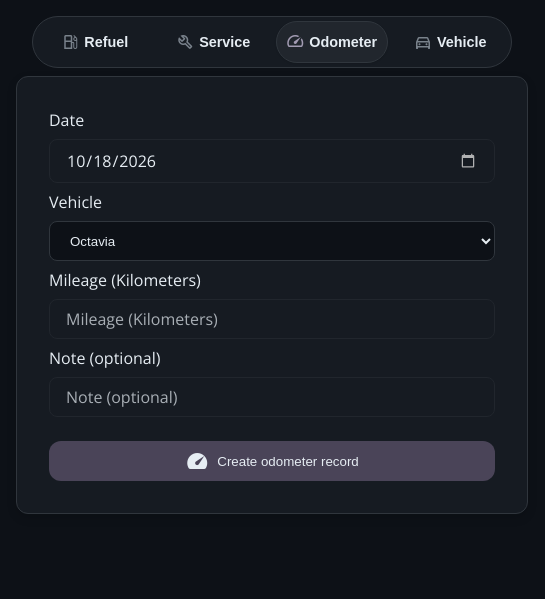
Test: AddView › start odometer record › hides the option when the selected vehicle already has a start record
Step 1. Select "Fabia" in the dropdown labelled "Vehicle" → (272, 241), box [49,221,495,261]
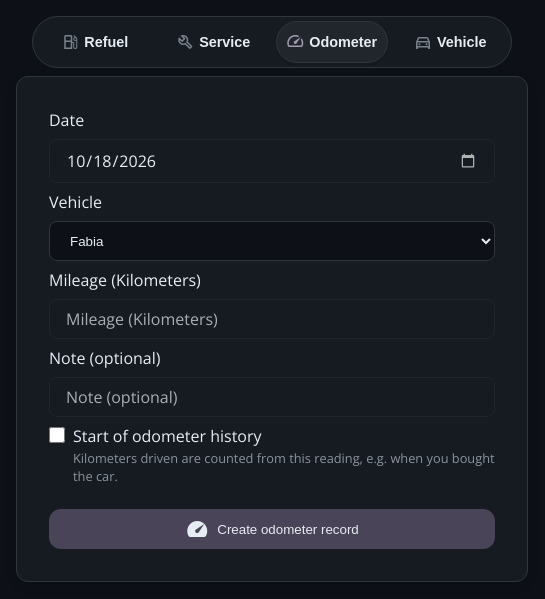
Now the checkbox with id "odometer_is_start" is shown, box [49,427,65,443]
